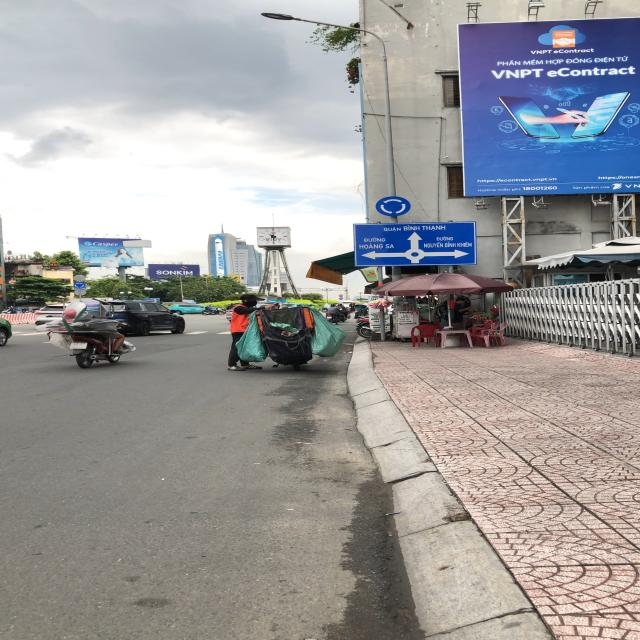Bien bao noi giao nhau chay theo vong xuyen: (372, 194, 414, 218), (72, 281, 88, 290)
